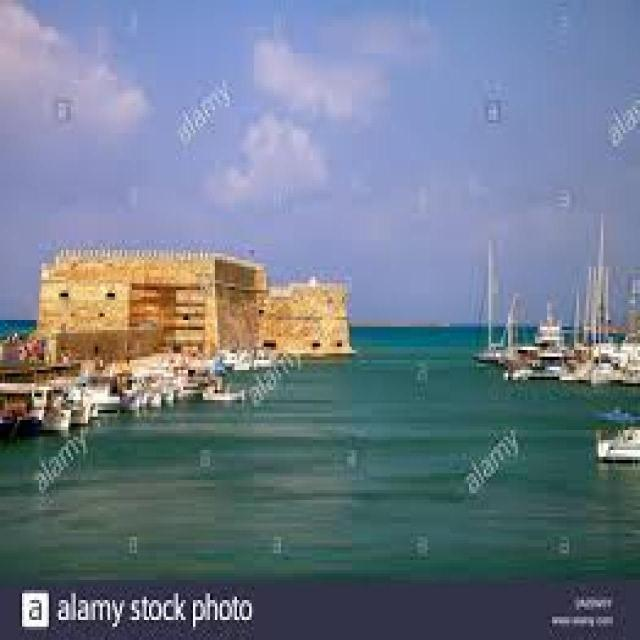Kules: (37, 245, 360, 360)
